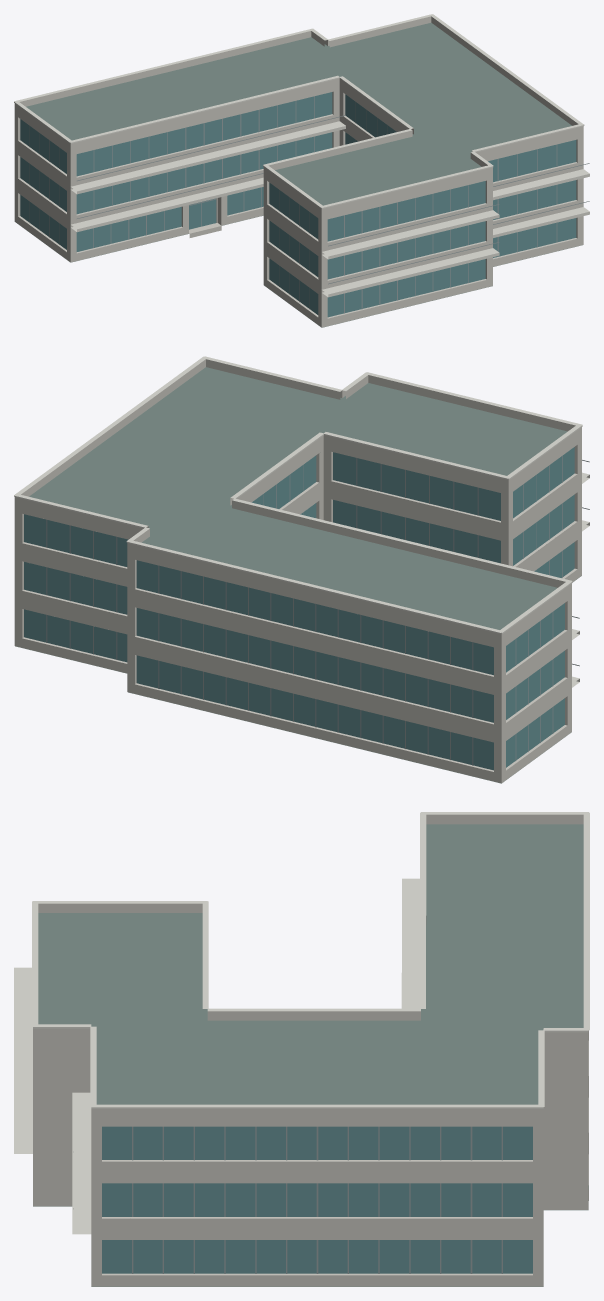
3 renders of one model, top to bottom at view 1: azimuth 30°, elevation 25°; view 2: azimuth 150°, elevation 25°; view 3: azimuth 270°, elevation 25°, orthographic. The views are drawn at different scales.
Visible parts, largest first — view 1: naville__glass, naville__roof, naville__wall, naville__trim, naville__parapet, naville__frame; view 2: naville__roof, naville__glass, naville__wall, naville__parapet, naville__trim, naville__frame; view 3: naville__roof, naville__wall, naville__glass, naville__trim, naville__parapet, naville__frame.
Part boxes in pixels (box(x1,y1,x2,y2)): naville__glass: box(20, 92, 576, 317); naville__roof: box(17, 22, 582, 327); naville__wall: box(14, 83, 583, 327); naville__trim: box(14, 14, 589, 297); naville__parapet: box(14, 16, 583, 213); naville__frame: box(29, 96, 589, 313); naville__roof: box(15, 367, 580, 783); naville__glass: box(24, 447, 574, 770); naville__wall: box(14, 433, 581, 783); naville__parapet: box(14, 359, 581, 640); naville__trim: box(14, 356, 589, 687); naville__frame: box(46, 456, 589, 765); naville__roof: box(33, 824, 588, 1286); naville__wall: box(33, 1031, 588, 1286); naville__glass: box(102, 1126, 532, 1273); naville__trim: box(14, 812, 589, 1234); naville__parapet: box(33, 814, 588, 1116); naville__frame: box(73, 1126, 502, 1273).
Bounding box in the file's own units: 40.18 × 11.8 × 33.13.
